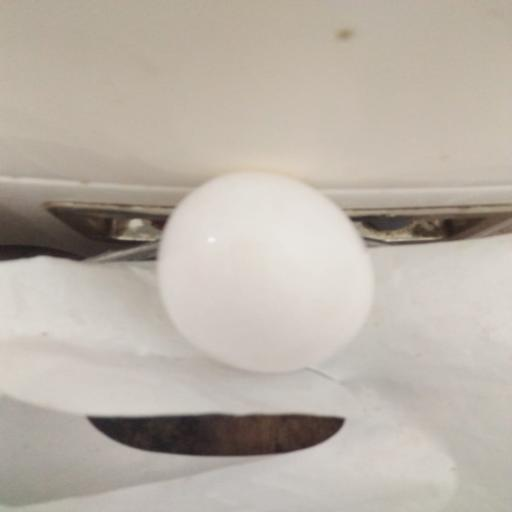telur: (157, 173, 374, 372)
